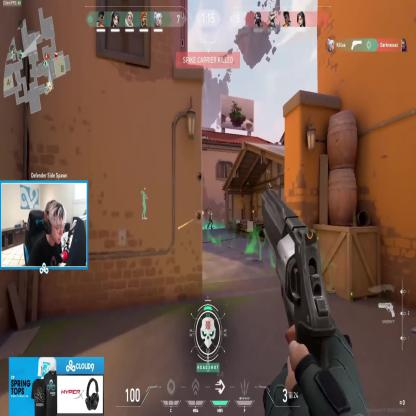enemy: (207, 209, 213, 229)
enemy_head: (210, 208, 212, 213)
